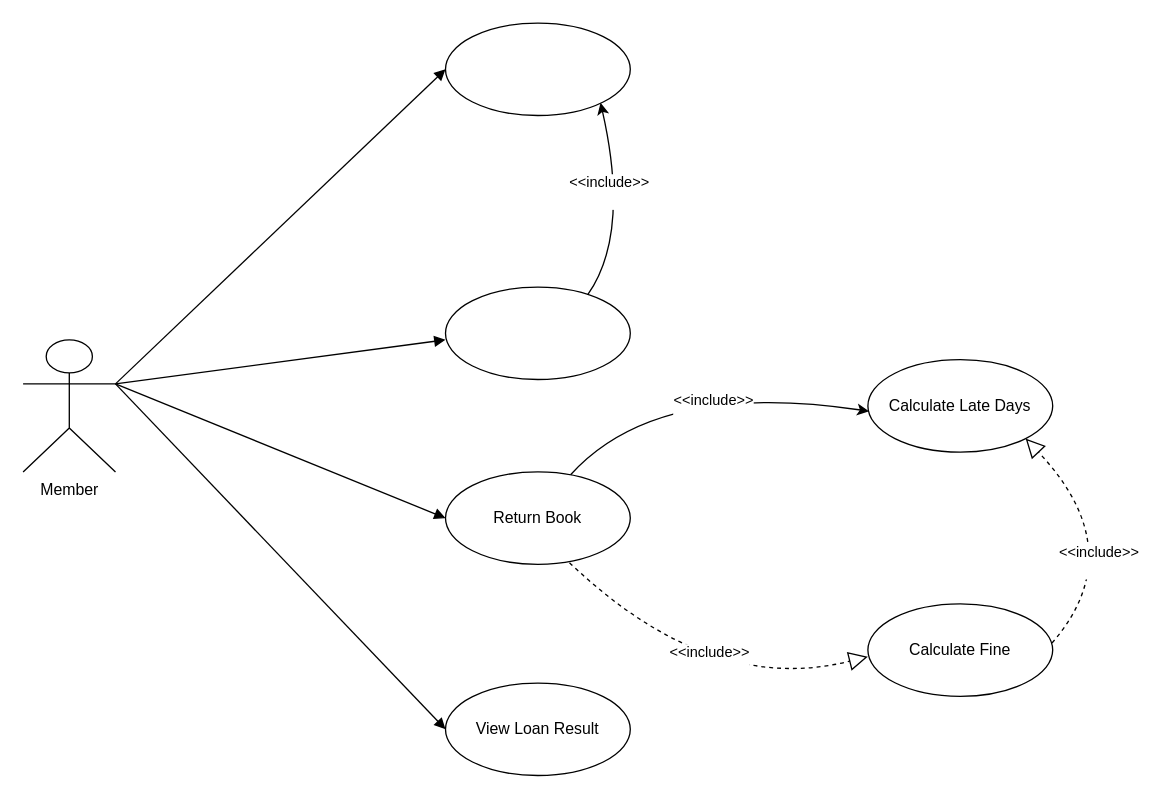
The diagram is 1162 pixels wide and 799 high, and some of its shapes have lost their labels. Here are the shapes that lost their labels. From the top down, the box of each, then its label:
(444, 22, 630, 116): Search Book
(444, 286, 630, 380): Borrow Book
